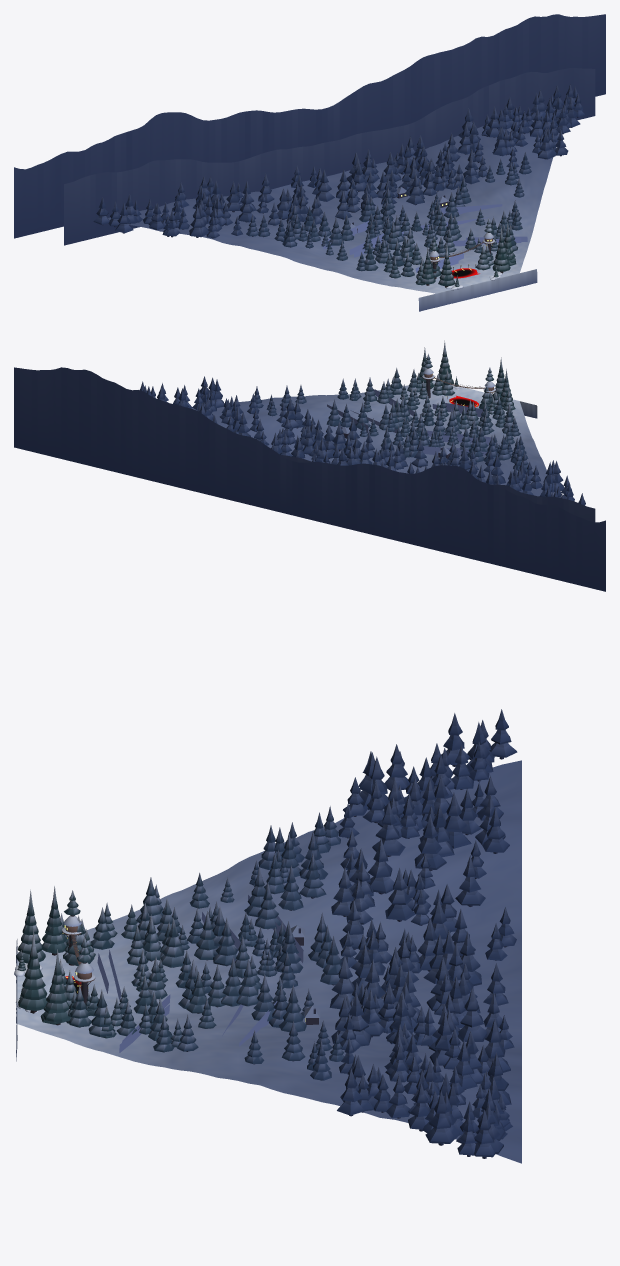
Rendered from backdrop_4.glb.
3 views of the same model, one above another, from view 1: azimuth 30°, elevation 25°; view 2: azimuth 150°, elevation 25°; view 3: azimuth 270°, elevation 25° (orthographic). The views are drawn at different scales.
Parts seen in each view (by area): view 1: far_mountains, far_pines, mid_ground, mid_pines, fg_bank, fg_firs, mid_mist, lm_treehouses; view 2: far_mountains, far_pines, mid_pines, mid_ground, mid_mist, fg_firs, lm_treehouses; view 3: far_pines, mid_ground, mid_pines, fg_firs, mid_mist, lm_treehouses.
Part boxes in pixels (left/top/right/bottom): far_mountains: left=14, top=14, right=605, bottom=245; far_pines: left=93, top=84, right=584, bottom=238; mid_ground: left=108, top=110, right=559, bottom=293; mid_pines: left=246, top=152, right=531, bottom=285; fg_bank: left=418, top=269, right=537, bottom=311; fg_firs: left=420, top=222, right=515, bottom=287; mid_mist: left=321, top=204, right=527, bottom=272; lm_treehouses: left=430, top=218, right=494, bottom=279; far_mountains: left=14, top=367, right=605, bottom=591; far_pines: left=140, top=376, right=585, bottom=505; mid_pines: left=254, top=367, right=528, bottom=474; mid_ground: left=191, top=381, right=554, bottom=496; mid_mist: left=327, top=389, right=496, bottom=455; fg_firs: left=419, top=340, right=513, bottom=407; lm_treehouses: left=422, top=353, right=495, bottom=398; far_pines: left=329, top=709, right=517, bottom=1158; mid_ground: left=17, top=760, right=521, bottom=1163; mid_pines: left=40, top=806, right=344, bottom=1080; fg_firs: left=16, top=886, right=70, bottom=1025; mid_mist: left=97, top=895, right=303, bottom=1052; lm_treehouses: left=62, top=890, right=95, bottom=1003.
Size of the model in its own units: 400 by 66.43 by 198.
